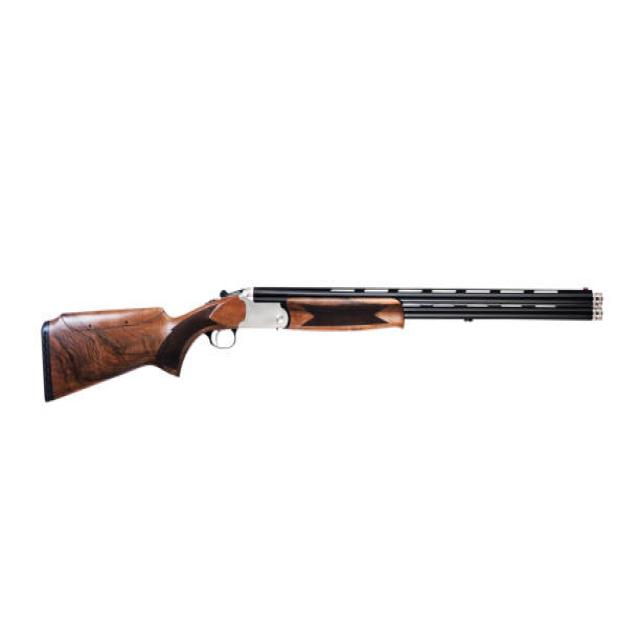rifle: (40, 285, 609, 411)
